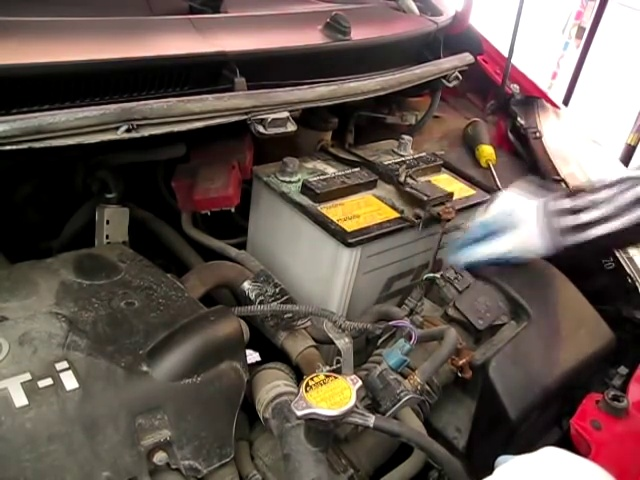battery: (250, 121, 495, 239)
neg_disconnected: (381, 123, 445, 171)
pos_disconnected: (196, 134, 319, 217)
